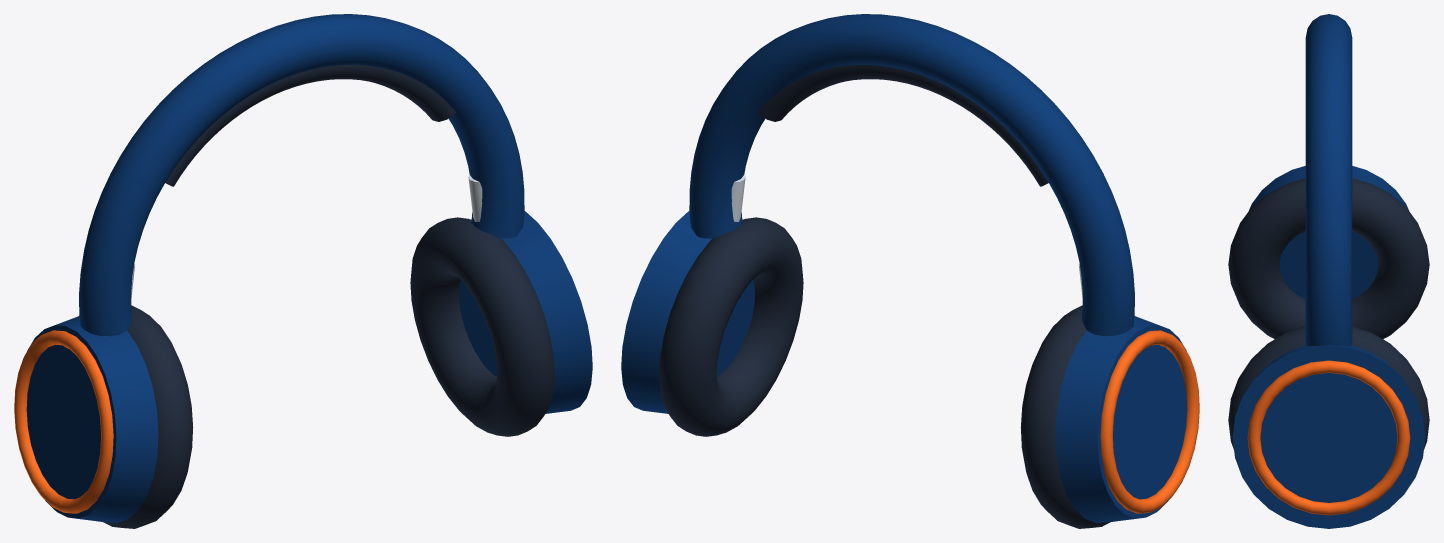
The model's file is headphones.glb.
3 views of the same model, side by side, from view 1: azimuth 30°, elevation 25°; view 2: azimuth 150°, elevation 25°; view 3: azimuth 270°, elevation 25° (orthographic). The views are drawn at different scales.
Parts seen in each view (by area): view 1: Headphones; view 2: Headphones; view 3: Headphones.
Boxes of the visible parts, left/top/right/bottom form: Headphones: left=14, top=14, right=592, bottom=528; Headphones: left=621, top=14, right=1199, bottom=528; Headphones: left=1228, top=14, right=1429, bottom=528.
Bounding box in the file's own units: 1.43 × 1.23 × 0.564.
